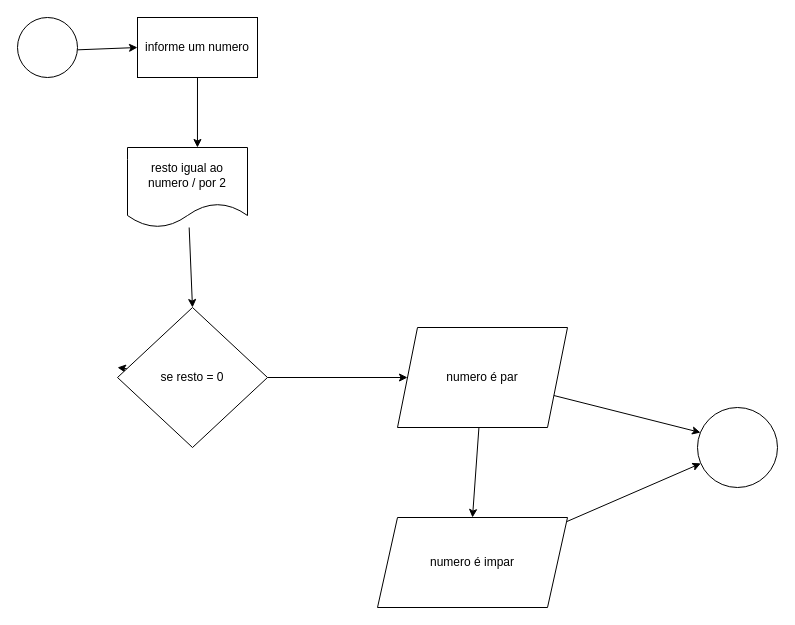
Image size: 795x625. Some labels were removed from this diagram. The shapes that lost their labels are listed below. From the top down, each one's box as (x1, y1, x2, y2) in pixels, then its label:
(16, 16, 78, 78): inicio
(696, 406, 778, 488): fim
